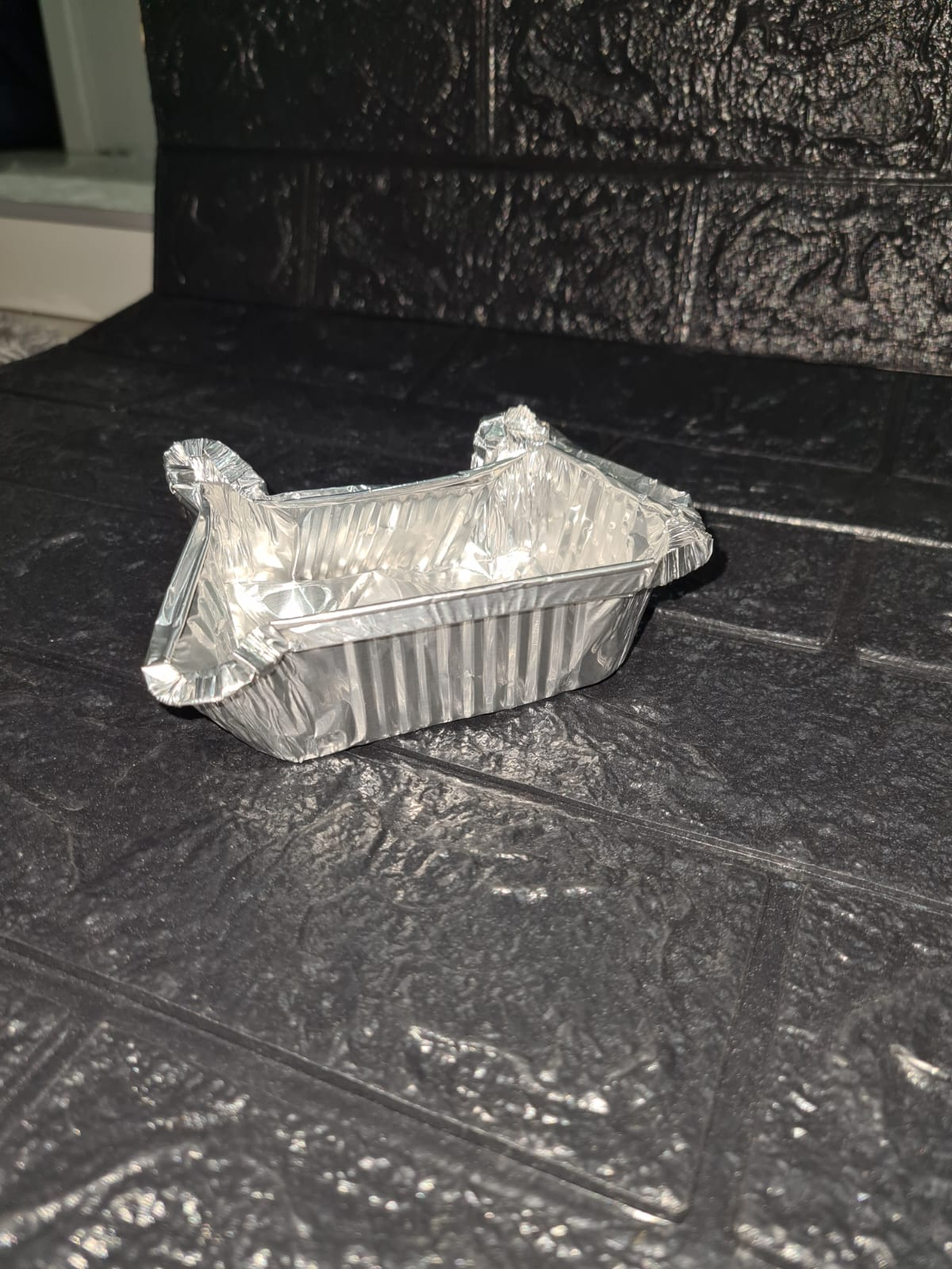Metal: (106, 400, 731, 767)
